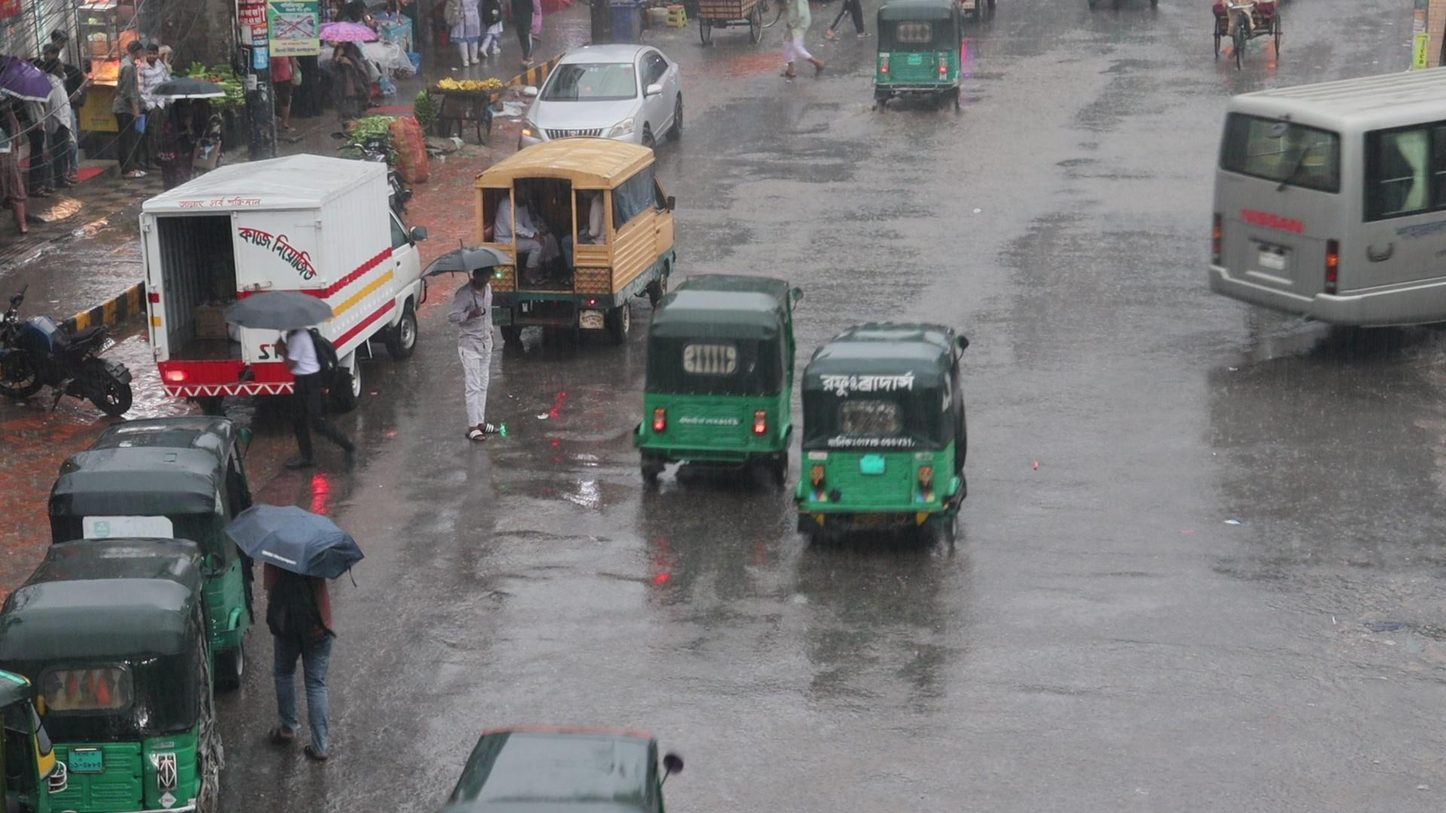Car: (533, 37, 679, 164)
Truck: (469, 139, 680, 358)
